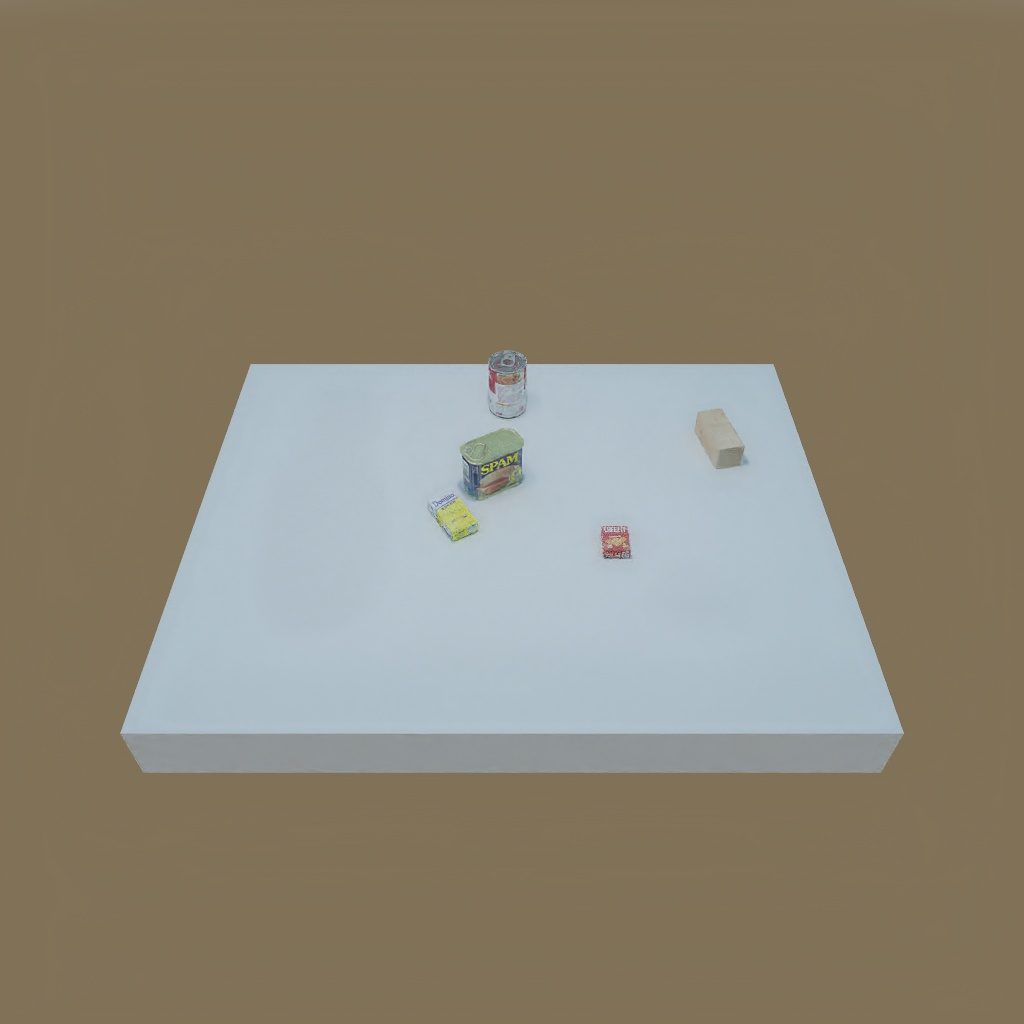potted_meat_can: (459, 428, 526, 498)
tomato_soup_can: (483, 347, 530, 416)
wood_block: (689, 408, 745, 469)
